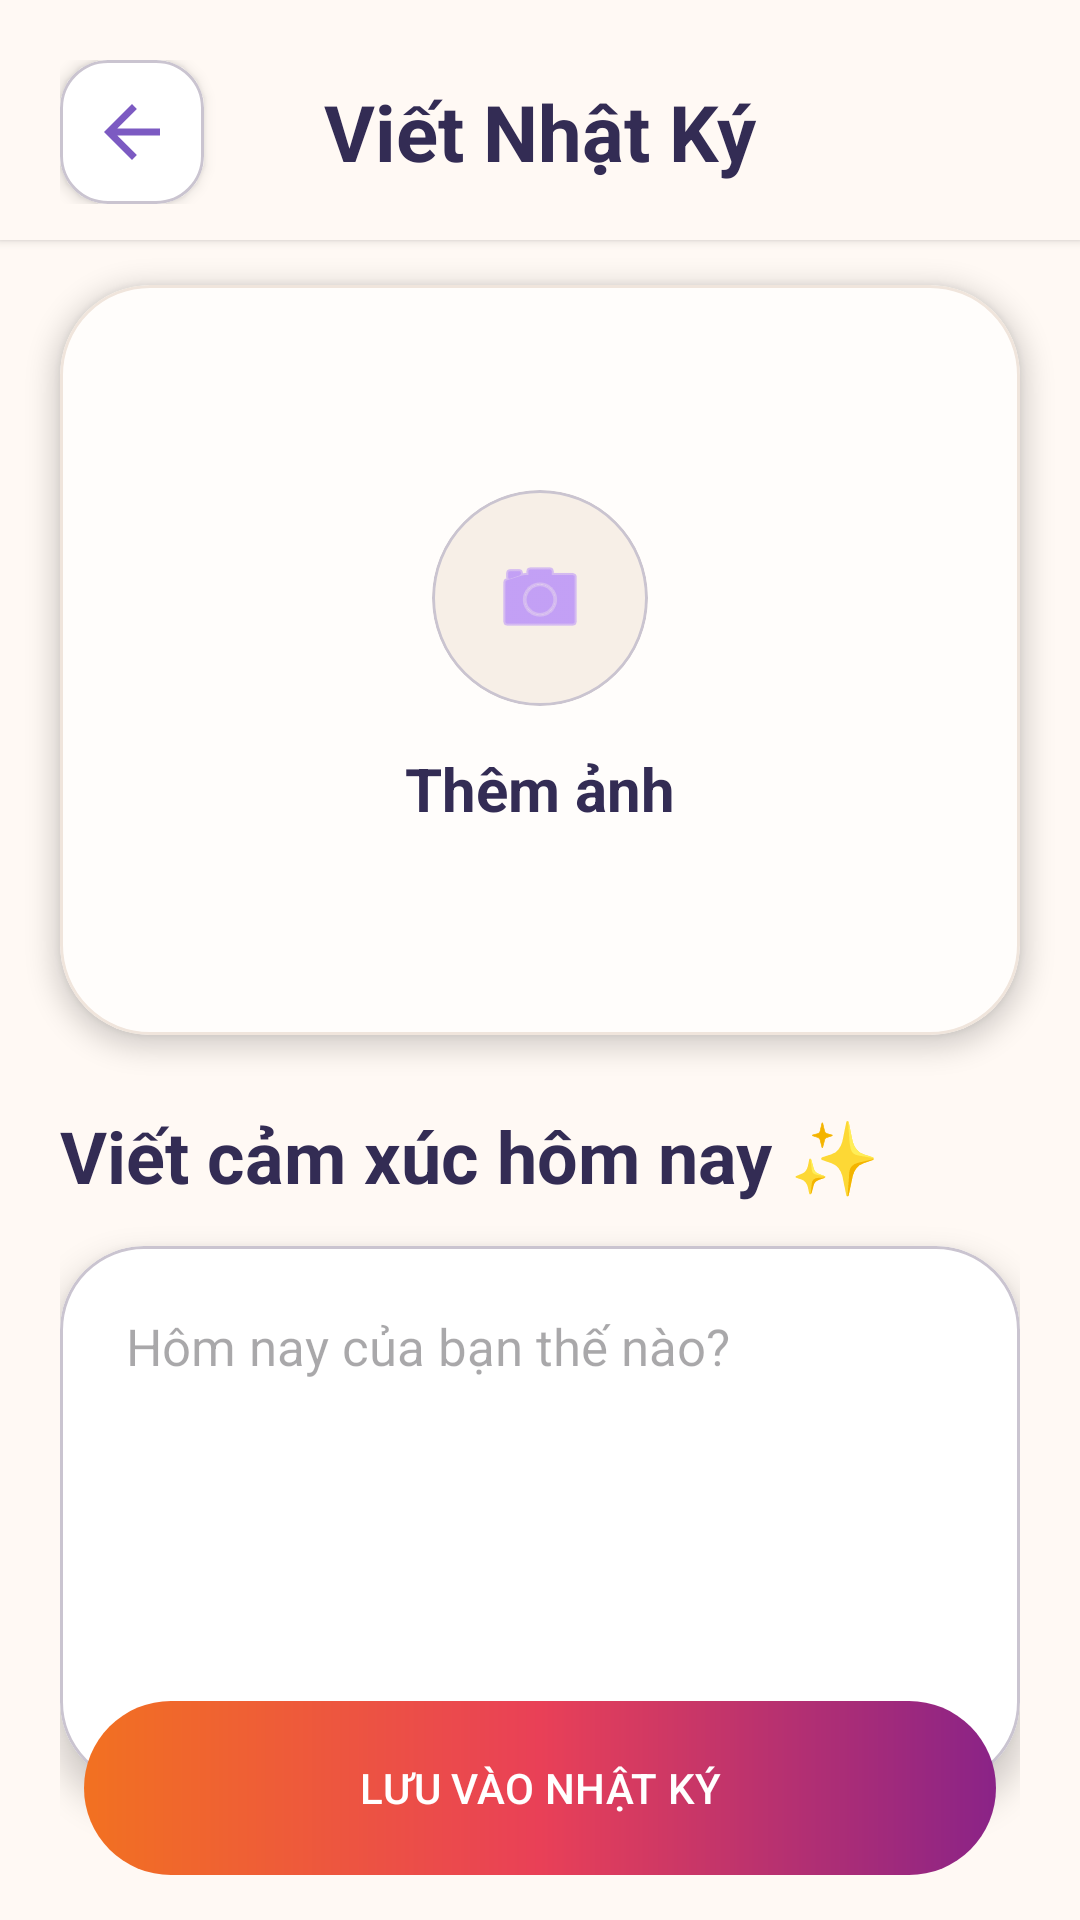

Screen size 1080×1920. Icon name, then its center in pixels as (x=x, y=y):
camera: (x=540, y=598)
